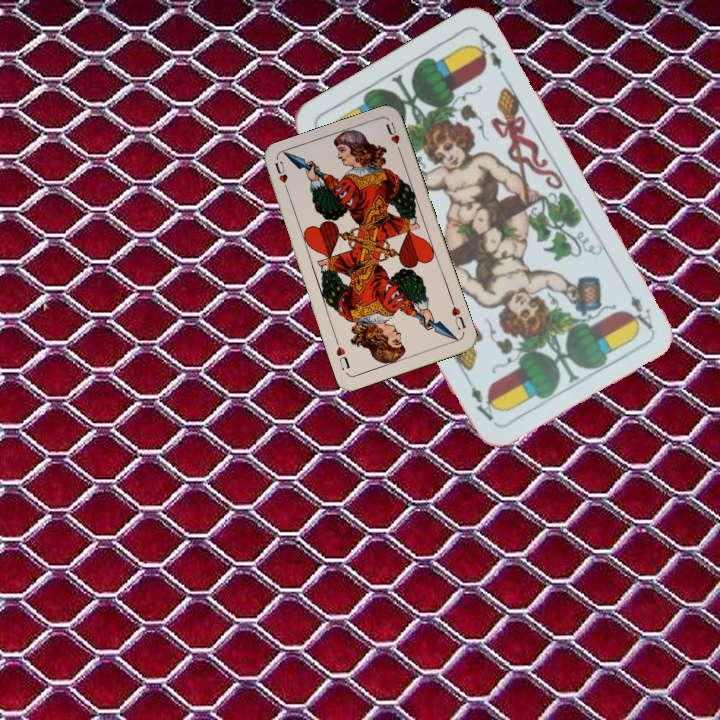EA: (626, 292, 656, 333)
HU: (271, 157, 292, 197), (447, 296, 468, 332)
